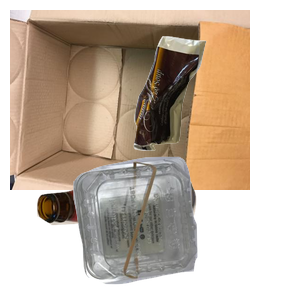cardboard: (10, 10, 250, 190)
glass: (34, 170, 223, 300)
plastic: (71, 154, 300, 300)
trash: (131, 34, 300, 177)
